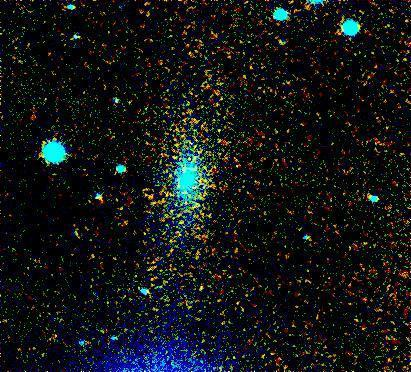star: (186, 269, 216, 299)
